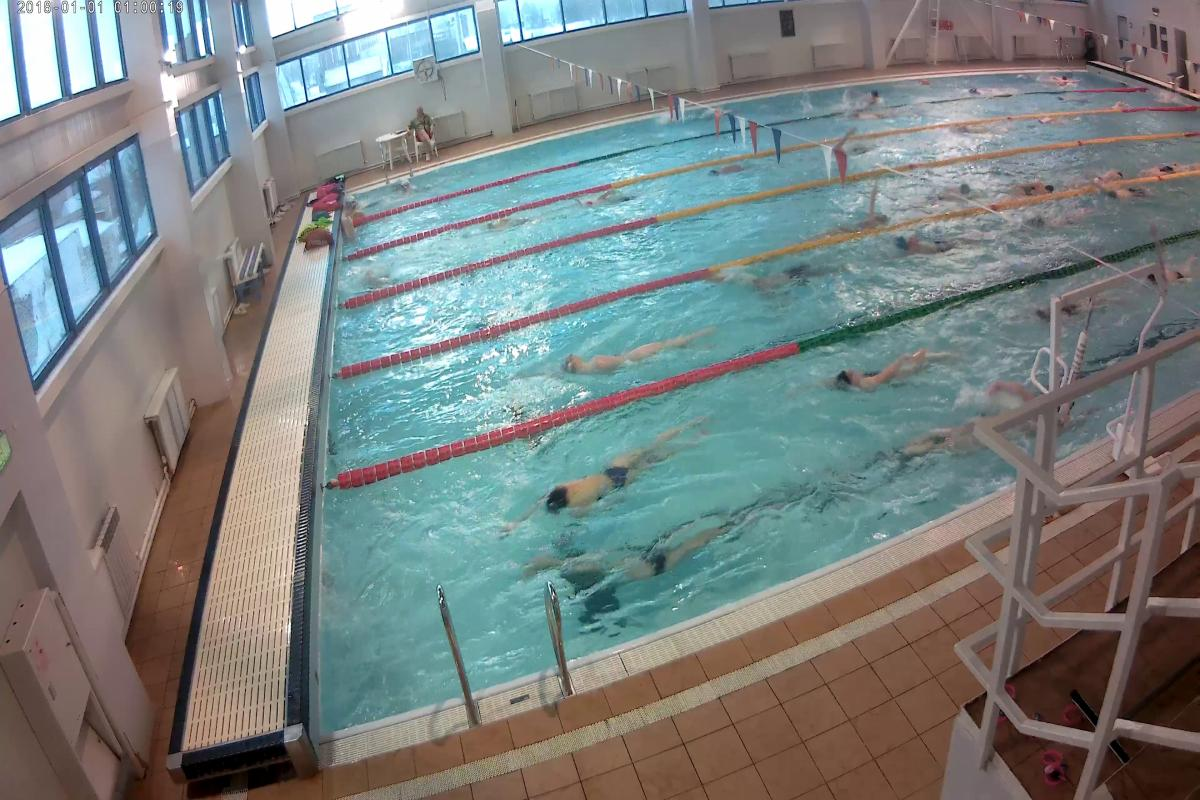swimmer: (529, 439, 684, 525), (556, 530, 720, 575), (817, 348, 947, 396), (562, 334, 697, 378), (913, 403, 1001, 462), (743, 253, 829, 290), (994, 162, 1068, 196), (826, 205, 896, 236), (890, 230, 966, 258), (1109, 183, 1168, 210)
